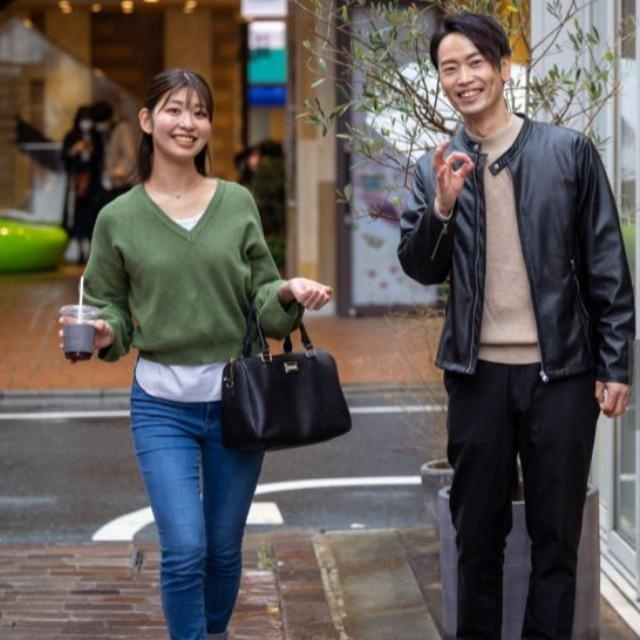Sin_Casco_Mascarrilla: (428, 14, 516, 116), (139, 67, 213, 161)
Sin_Chaleco: (411, 124, 597, 378), (103, 177, 264, 369)
